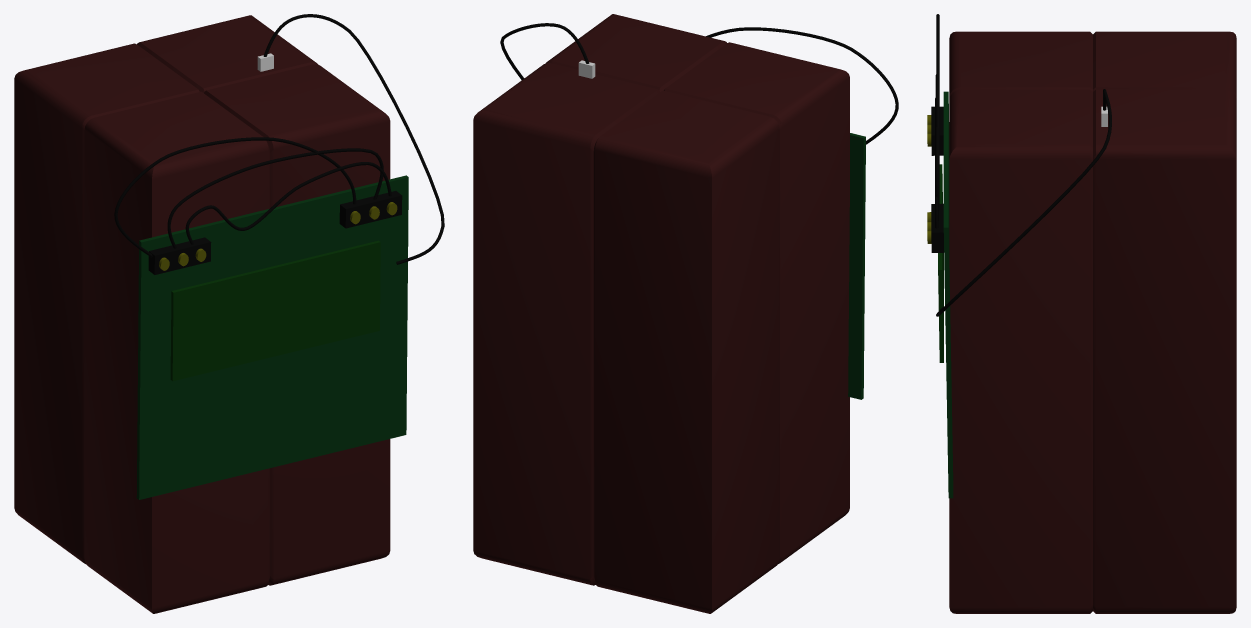
File: bombaizi.fbx
3 views of the same model, side by side, from view 1: azimuth 30°, elevation 25°; view 2: azimuth 150°, elevation 25°; view 3: azimuth 270°, elevation 25° (orthographic). The views are drawn at different scales.
Parts seen in each view (by area): view 1: Cube; view 2: Cube; view 3: Cube.
Part boxes in pixels (x1,y1,x2,y2): Cube: [14, 14, 444, 613]; Cube: [473, 14, 898, 613]; Cube: [927, 14, 1236, 613].
Size of the model in its own units: 142 by 198 by 108.
